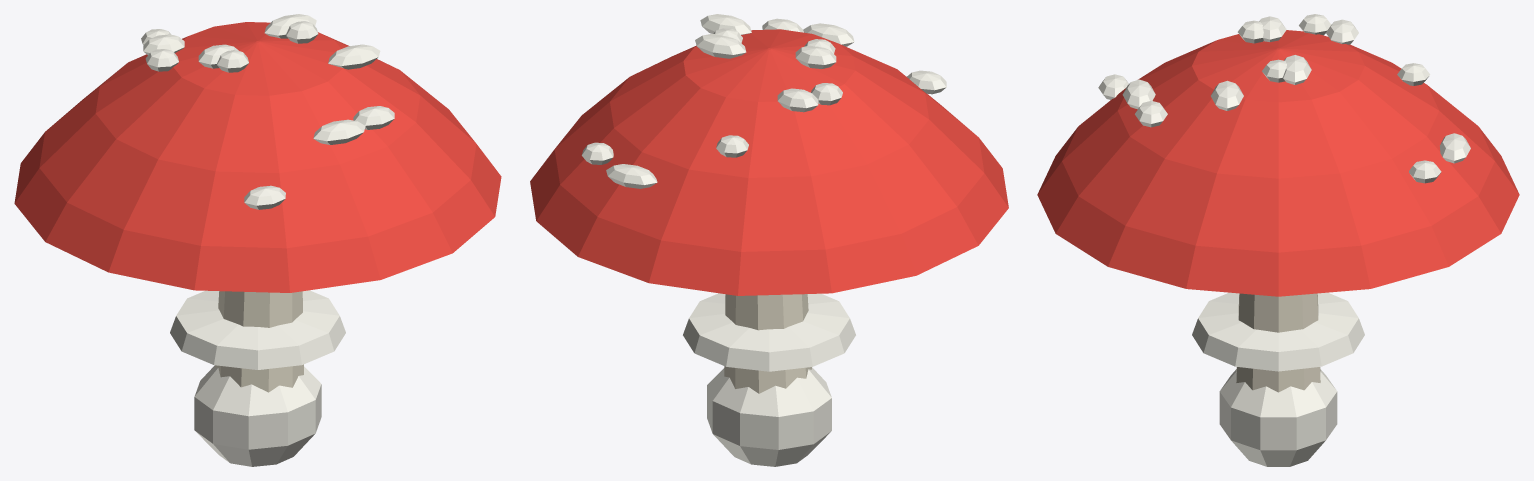
The model's file is aminita.glb.
The picture shows the model from 3 angles, left to right: view 1: azimuth 30°, elevation 25°; view 2: azimuth 150°, elevation 25°; view 3: azimuth 270°, elevation 25°; orthographic projection.
Parts seen in each view (by area): view 1: aminita; view 2: aminita; view 3: aminita.
Boxes of the visible parts, bbox=[...] form: aminita: bbox=[14, 14, 501, 466]; aminita: bbox=[530, 14, 1008, 466]; aminita: bbox=[1037, 14, 1519, 466].
Size of the model in its own units: 0.7708 by 0.74 by 0.7708.
